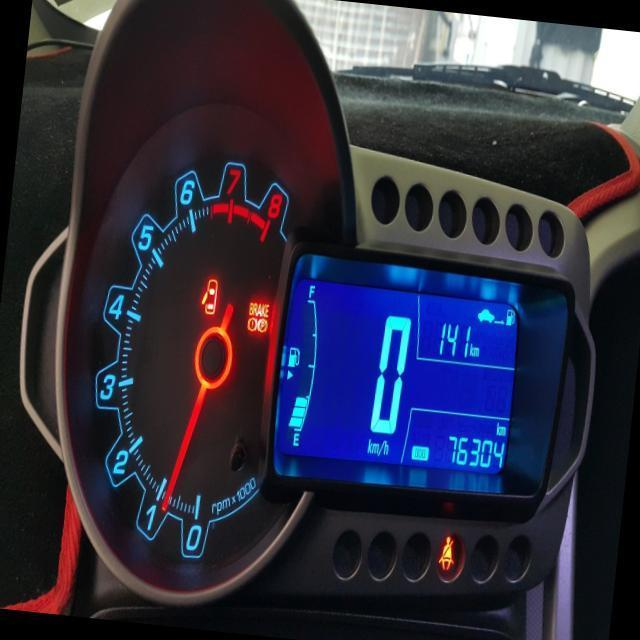Doors: (199, 276, 218, 314)
